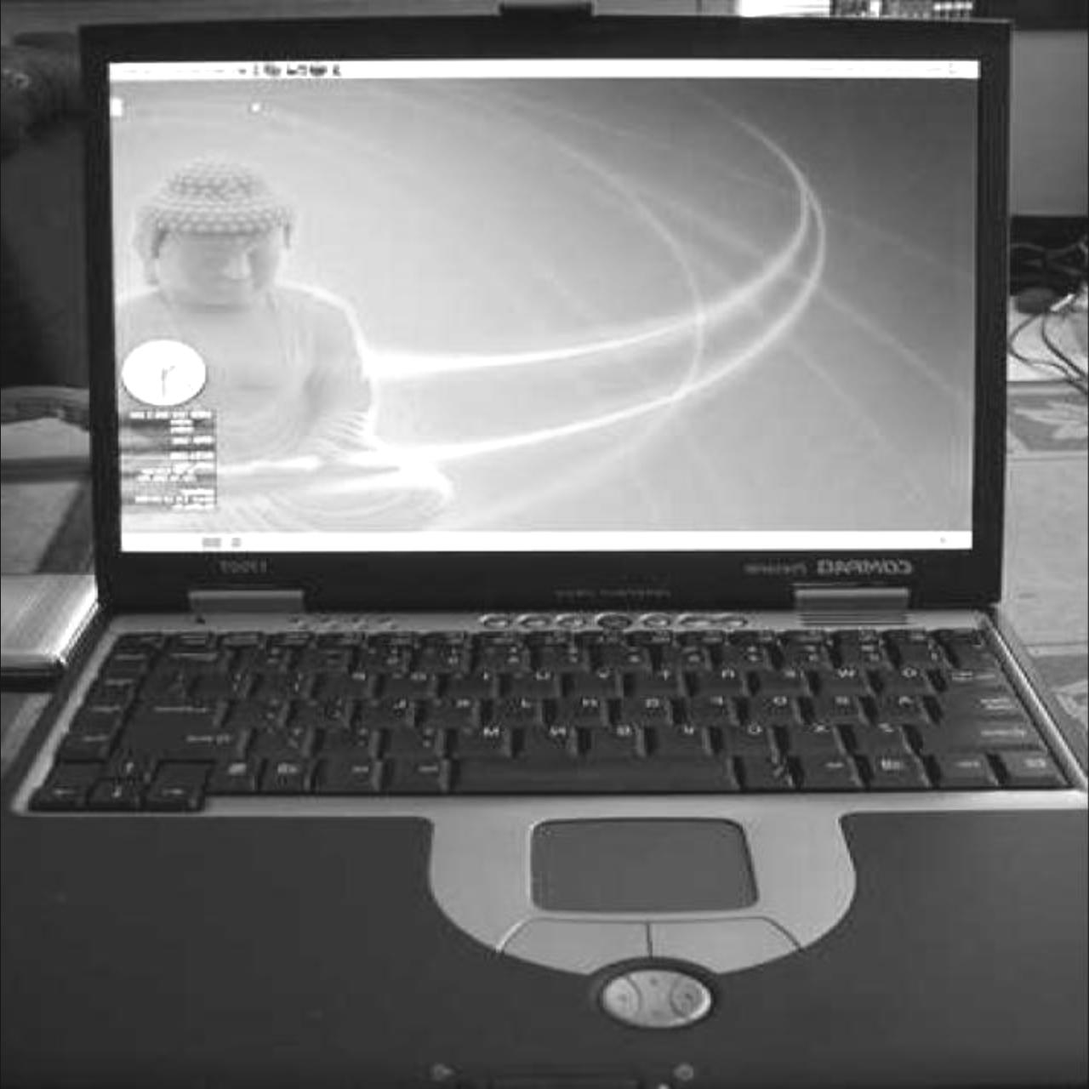laptop: (75, 32, 1028, 1089)
